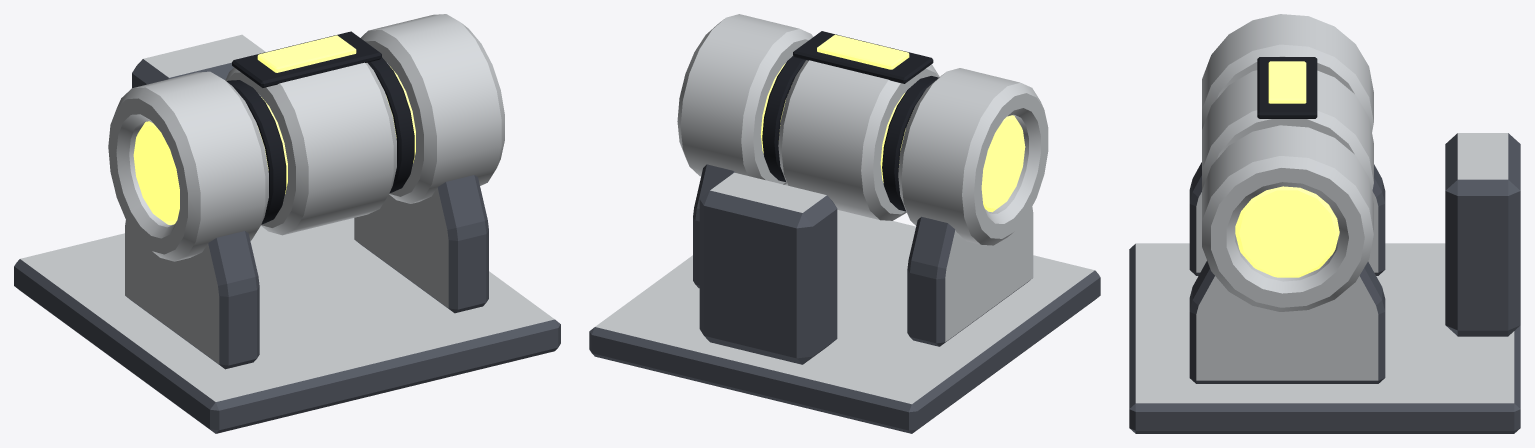
Rendered from R4X_Battery_LOD1.fbx.
3 renders of one model, left to right at view 1: azimuth 30°, elevation 25°; view 2: azimuth 150°, elevation 25°; view 3: azimuth 270°, elevation 25°, orthographic. The views are drawn at different scales.
Visible parts, largest first — view 1: R4X_Battery_LOD1; view 2: R4X_Battery_LOD1; view 3: R4X_Battery_LOD1.
Boxes of the visible parts, x1,y1,x2,y2 form: R4X_Battery_LOD1: (14,14,560,433); R4X_Battery_LOD1: (589,14,1100,433); R4X_Battery_LOD1: (1129,14,1520,433).
Size of the model in its own units: 0.52 by 0.402 by 0.52.
